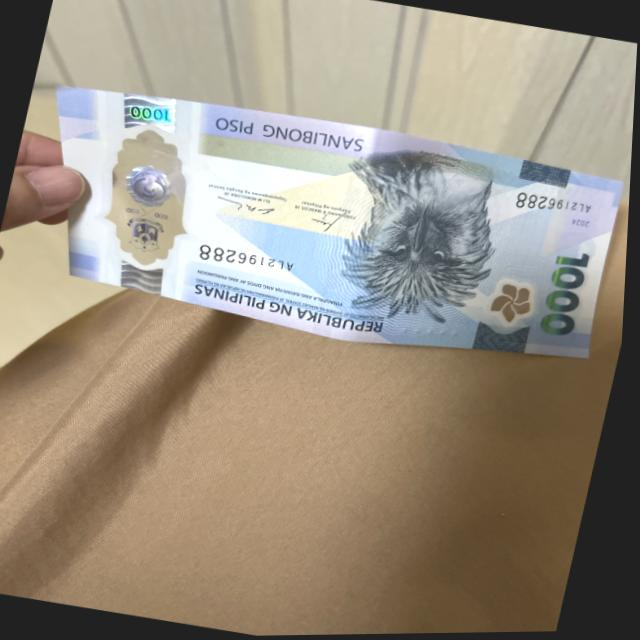clear_window: (87, 131, 212, 270)
eagle: (312, 156, 508, 323)
sampaguita: (487, 279, 545, 325)
